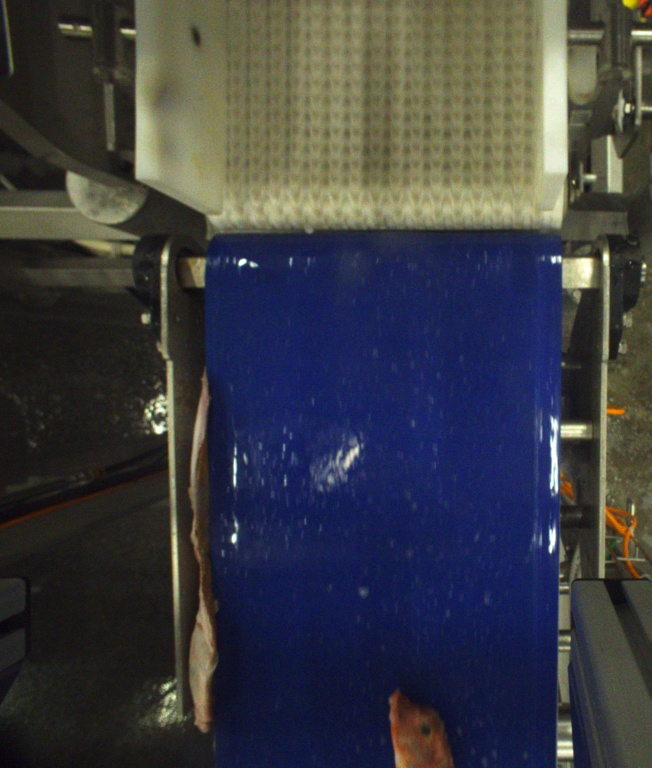GUU: (386, 690, 457, 768)
